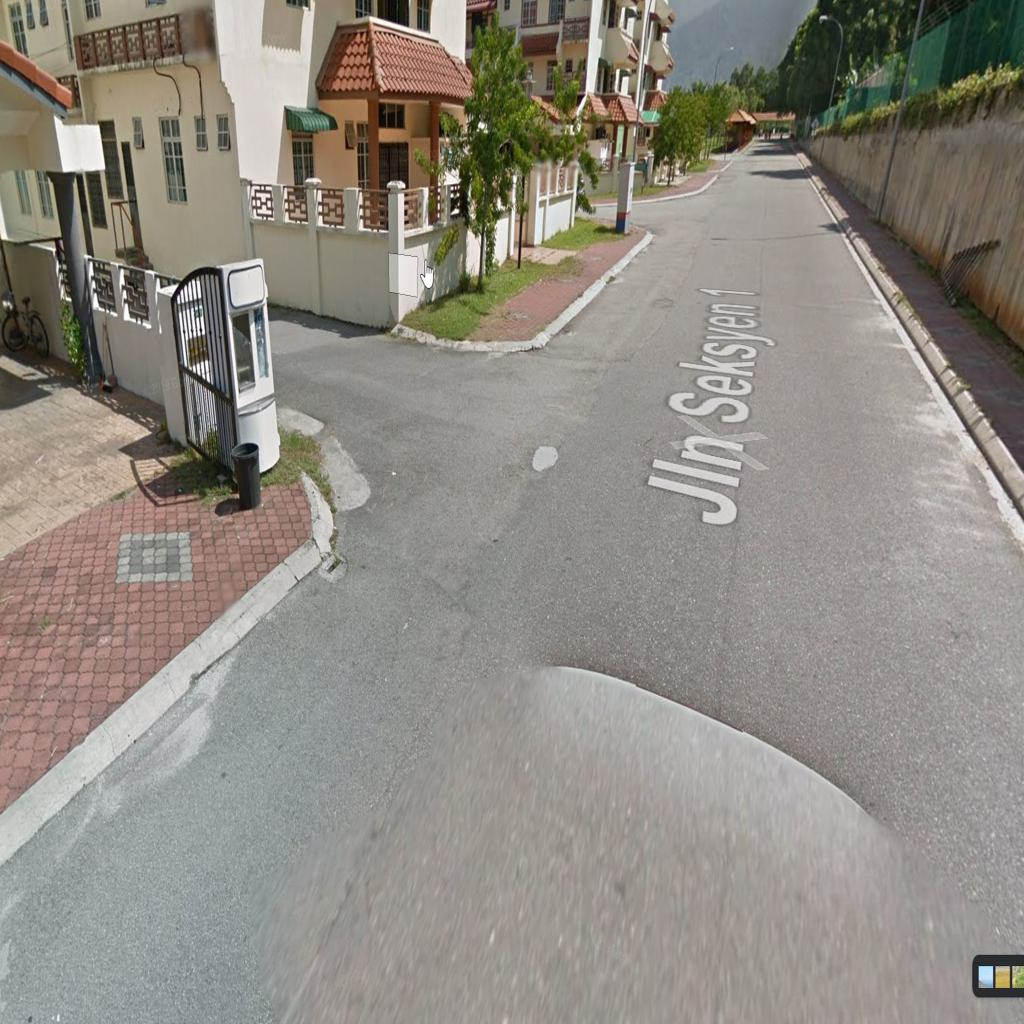Junction: (268, 300, 574, 564), (581, 184, 726, 250)
